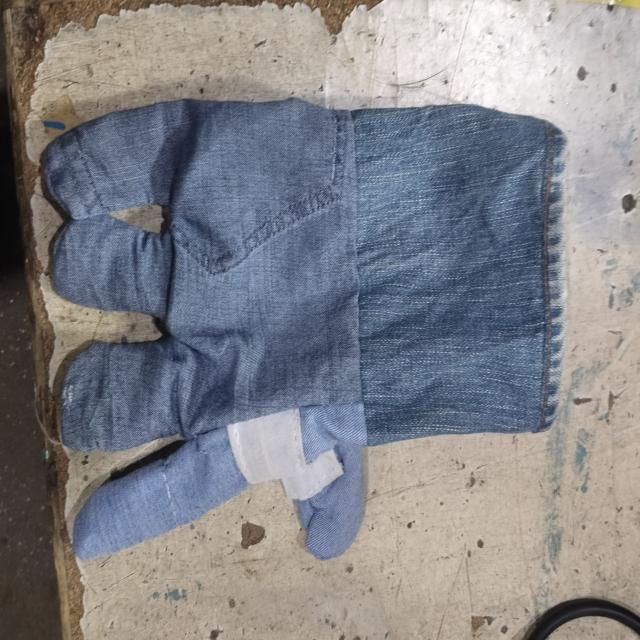Gloves-Detection: (44, 85, 566, 552)
